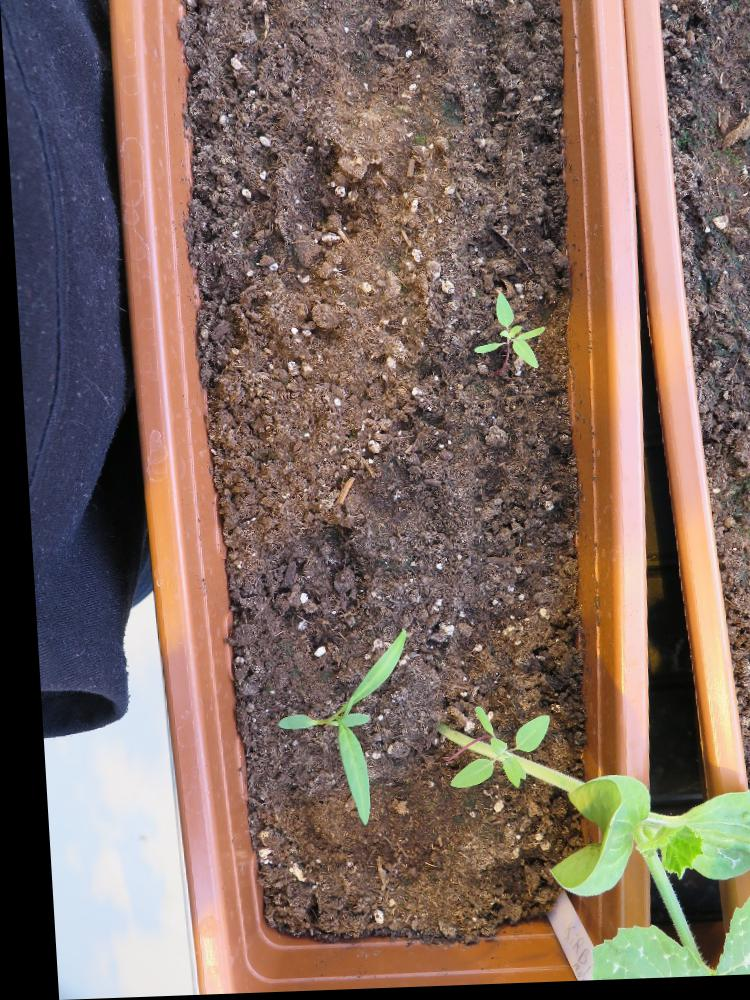weed: (260, 627, 407, 840), (463, 290, 544, 381)
